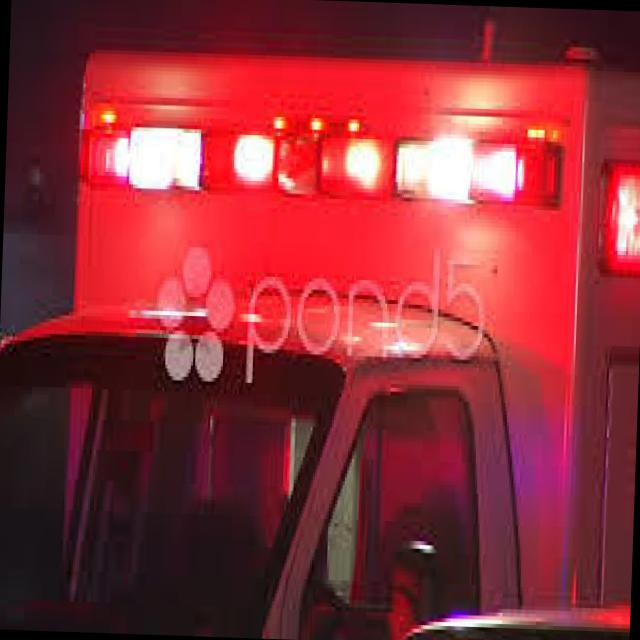ambulance: (52, 46, 590, 255)
